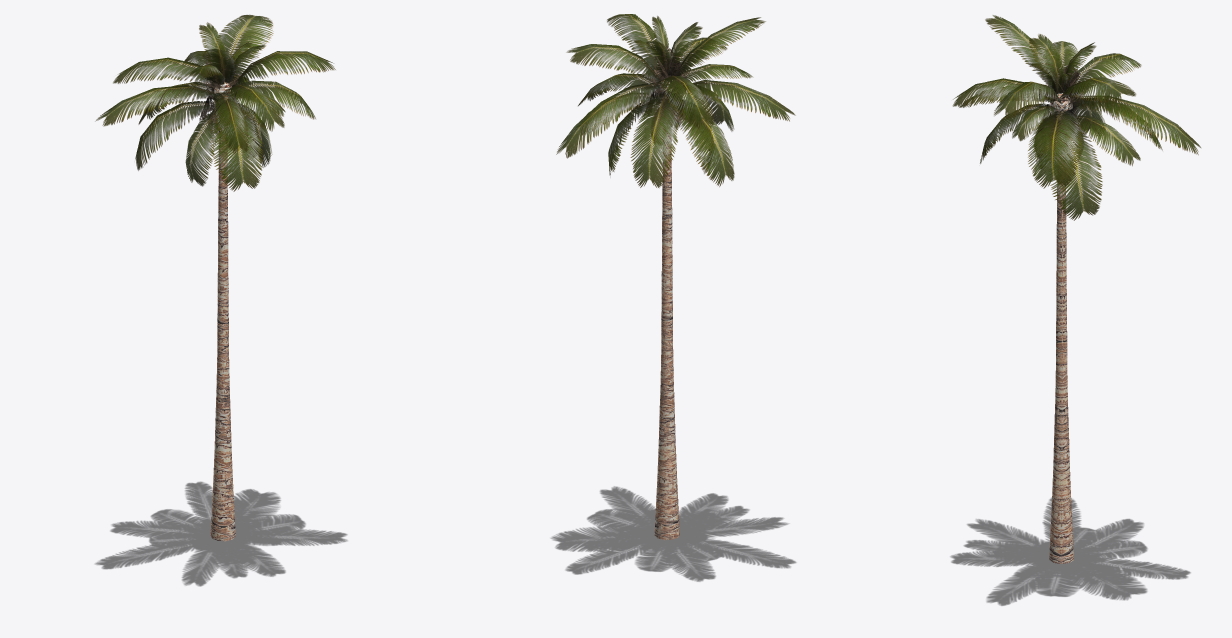
Rendered from palmeira.obj.
3 views of the same model, side by side, from view 1: azimuth 30°, elevation 25°; view 2: azimuth 150°, elevation 25°; view 3: azimuth 270°, elevation 25° (orthographic). The views are drawn at different scales.
Visible parts, largest first — view 1: palm_tree_Untitled, Plane; view 2: palm_tree_Untitled, Plane; view 3: palm_tree_Untitled, Plane.
Part boxes in pixels (x1,y1,x2,y2): palm_tree_Untitled: [95, 14, 335, 541]; Plane: [95, 482, 347, 586]; palm_tree_Untitled: [556, 14, 795, 540]; Plane: [551, 486, 796, 581]; palm_tree_Untitled: [952, 15, 1200, 563]; Plane: [950, 497, 1190, 605].
Size of the model in its own units: 2.42 by 4.4 by 2.42.
2 materials, 2 textured.
